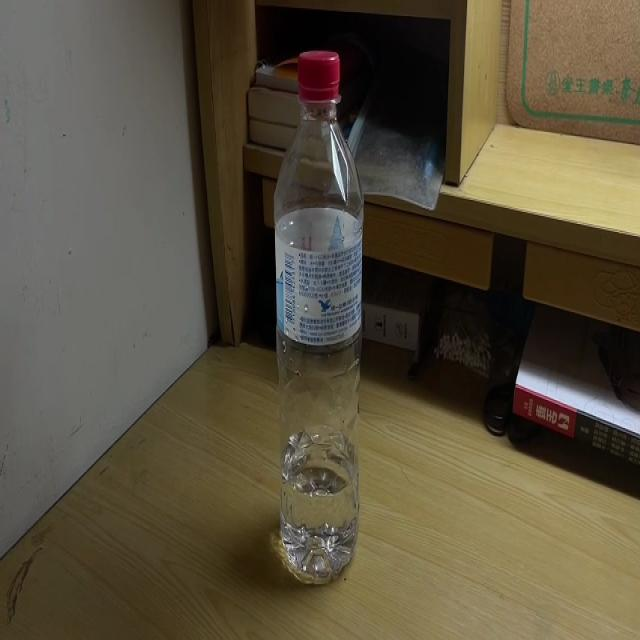Water: (272, 46, 364, 584)
